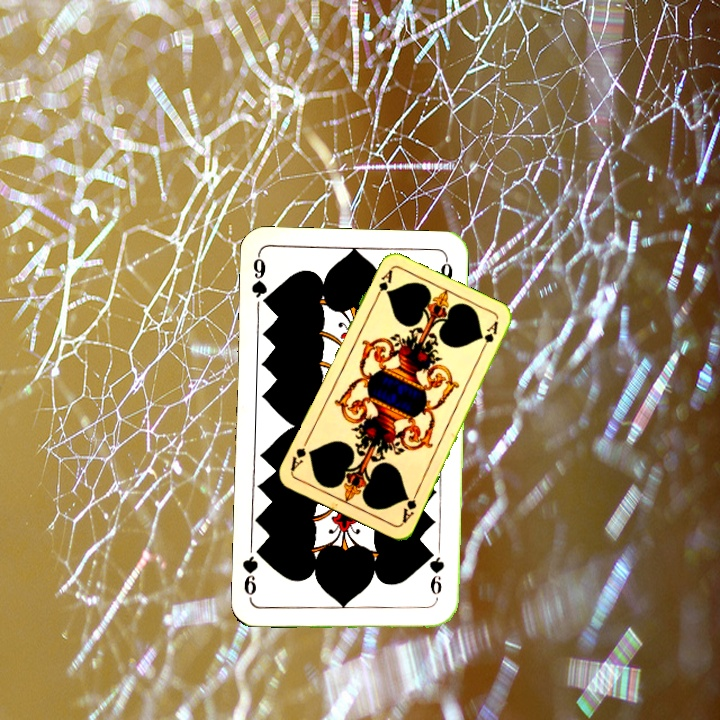G9: (247, 251, 273, 310), (425, 546, 447, 605)
GA: (371, 266, 395, 304), (398, 487, 421, 526)
